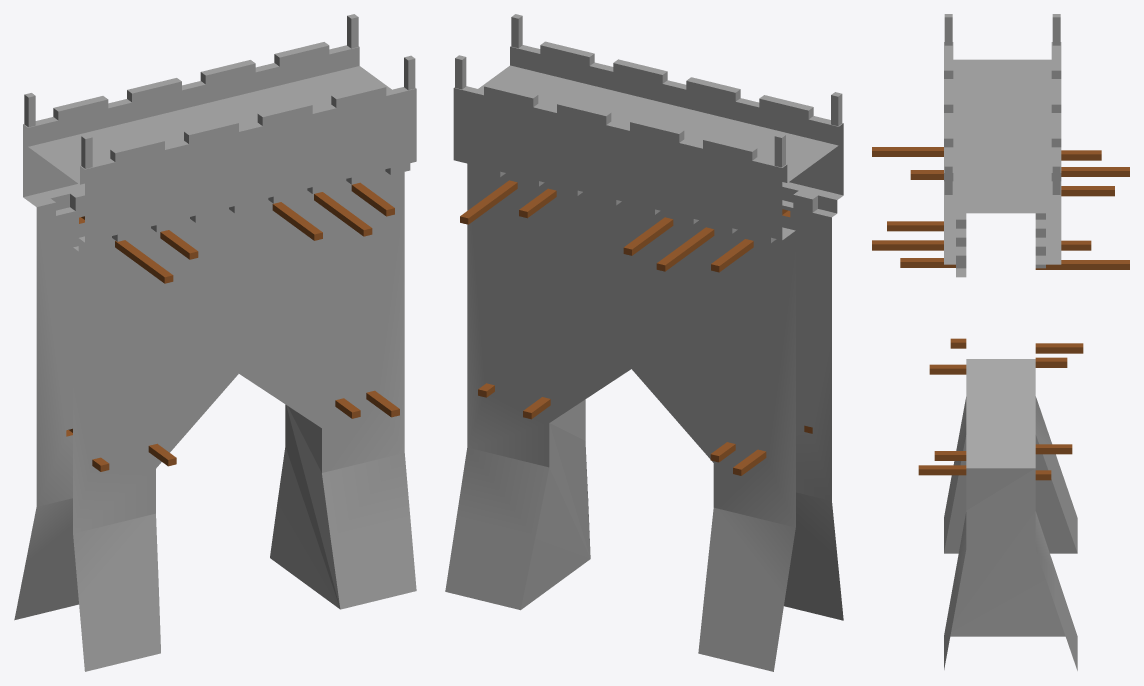
File: Building_Fortress_Castle_Wall_Opening_Large_04.fbx
The picture shows the model from 3 angles, left to right: view 1: azimuth 30°, elevation 25°; view 2: azimuth 150°, elevation 25°; view 3: azimuth 270°, elevation 25°; orthographic projection. The views are drawn at different scales.
Visible parts, largest first — view 1: Building_Fortress_Castle_Wall_Opening_Large_04; view 2: Building_Fortress_Castle_Wall_Opening_Large_04; view 3: Building_Fortress_Castle_Wall_Opening_Large_04.
Part boxes in pixels (<box>): Building_Fortress_Castle_Wall_Opening_Large_04: <box>14,14,416,671</box>; Building_Fortress_Castle_Wall_Opening_Large_04: <box>445,14,843,671</box>; Building_Fortress_Castle_Wall_Opening_Large_04: <box>872,14,1129,670</box>.
Size of the model in its own units: 7689 by 11788 by 5458.
